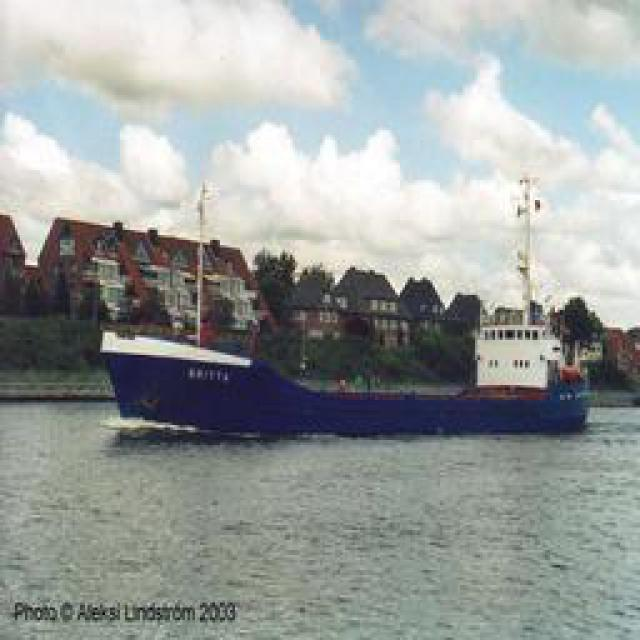Ship: (98, 295, 606, 440)
